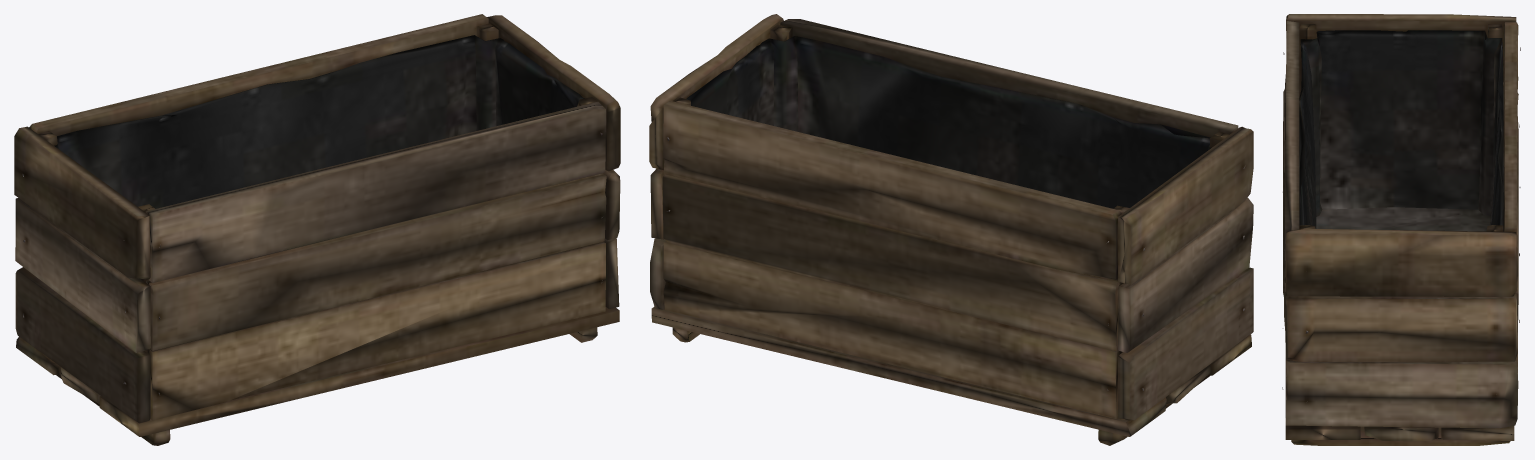
Rendered from planter.glb.
The picture shows the model from 3 angles, left to right: view 1: azimuth 30°, elevation 25°; view 2: azimuth 150°, elevation 25°; view 3: azimuth 270°, elevation 25°; orthographic projection. The views are drawn at different scales.
Visible parts, largest first — view 1: planter_box_01; view 2: planter_box_01; view 3: planter_box_01.
Boxes of the visible parts, x1,y1,x2,y2 form: planter_box_01: (14, 14, 620, 445); planter_box_01: (649, 14, 1253, 445); planter_box_01: (1282, 14, 1520, 445).
Bounding box in the file's own units: 0.9126 × 0.425 × 0.4137.
1 material, 1 textured.
